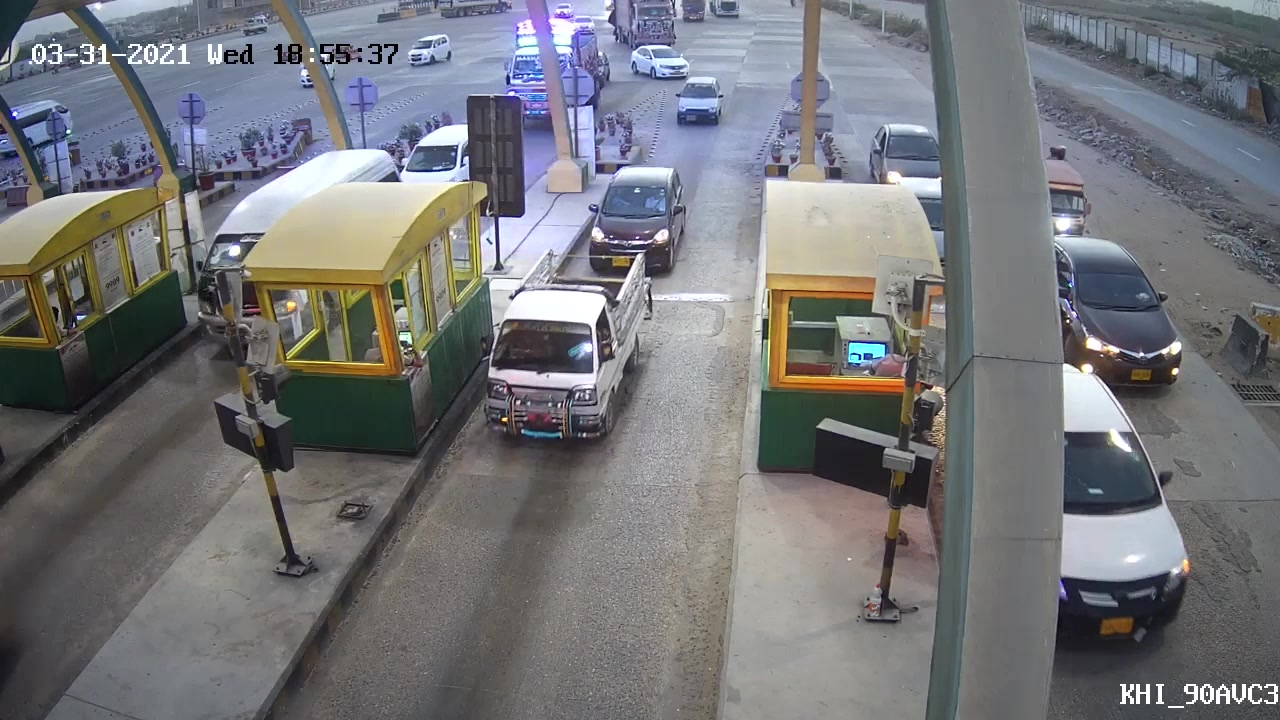F1: (470, 249, 652, 448)
